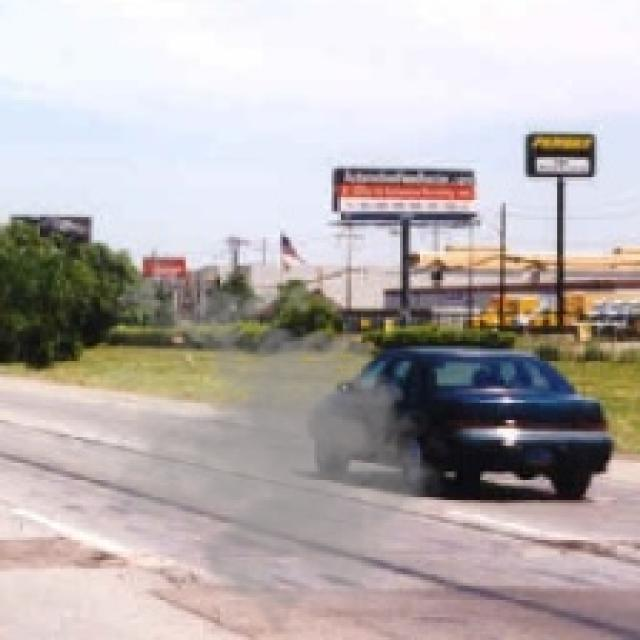smoke: (52, 263, 457, 631)
